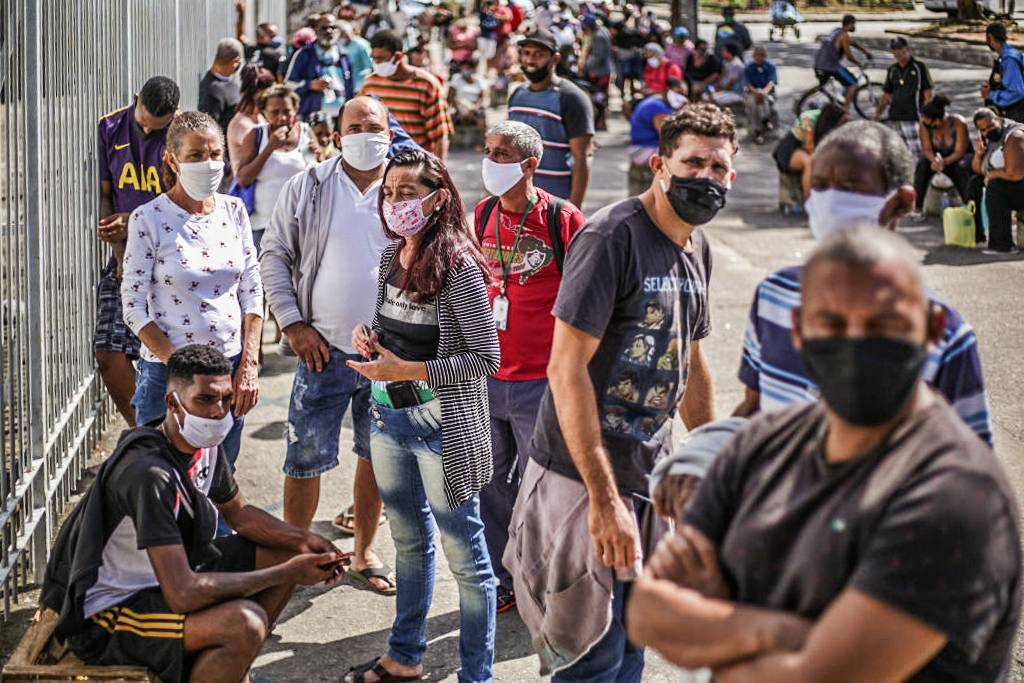mask_weared_incorrect: (169, 380, 237, 449), (260, 90, 298, 138), (518, 42, 559, 83)
with_mask: (790, 263, 939, 429), (798, 148, 916, 246), (655, 126, 732, 227), (377, 172, 455, 241), (166, 128, 233, 200), (479, 131, 529, 201), (336, 102, 390, 166)
